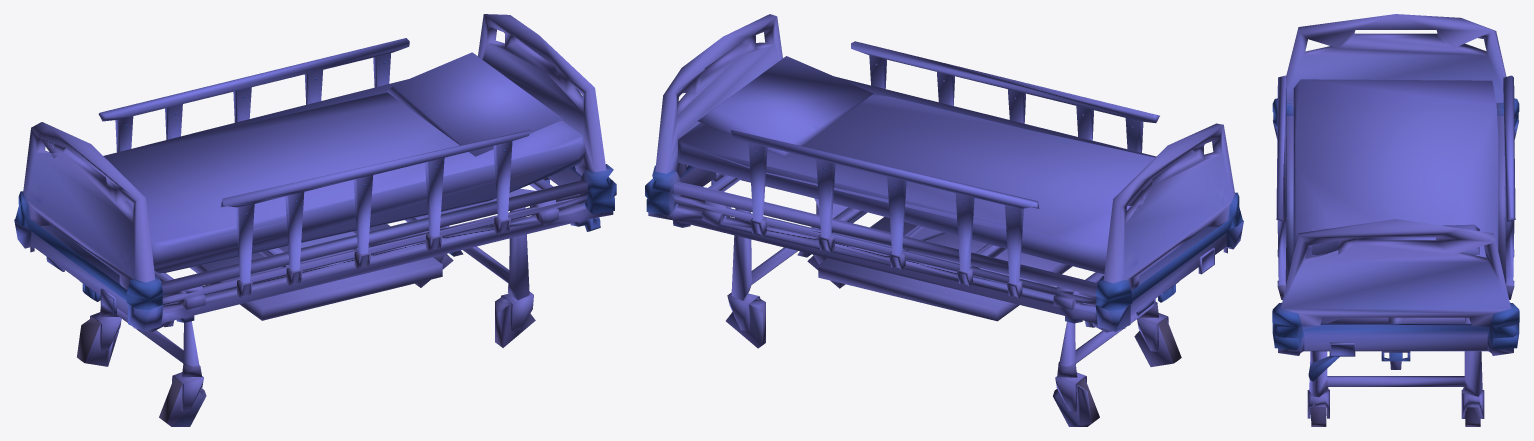
Rendered from model.progressive.glb.
The picture shows the model from 3 angles, left to right: view 1: azimuth 30°, elevation 25°; view 2: azimuth 150°, elevation 25°; view 3: azimuth 270°, elevation 25°; orthographic projection. The views are drawn at different scales.
Visible parts, largest first — view 1: material; view 2: material; view 3: material.
Part boxes in pixels (x1=…): material: x1=14, y1=14, x2=616, y2=426; material: x1=645, y1=14, x2=1243, y2=426; material: x1=1272, y1=14, x2=1519, y2=426.
Size of the model in its own units: 1.9 by 0.9912 by 0.9002.
Materials: 1 (1 with a texture image).
